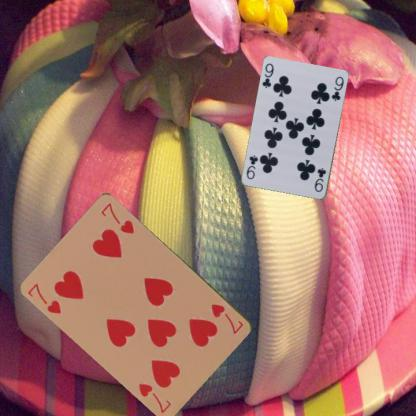7h: (25, 280, 63, 315), (209, 301, 245, 336)
9c: (260, 61, 275, 90), (312, 166, 328, 193)
